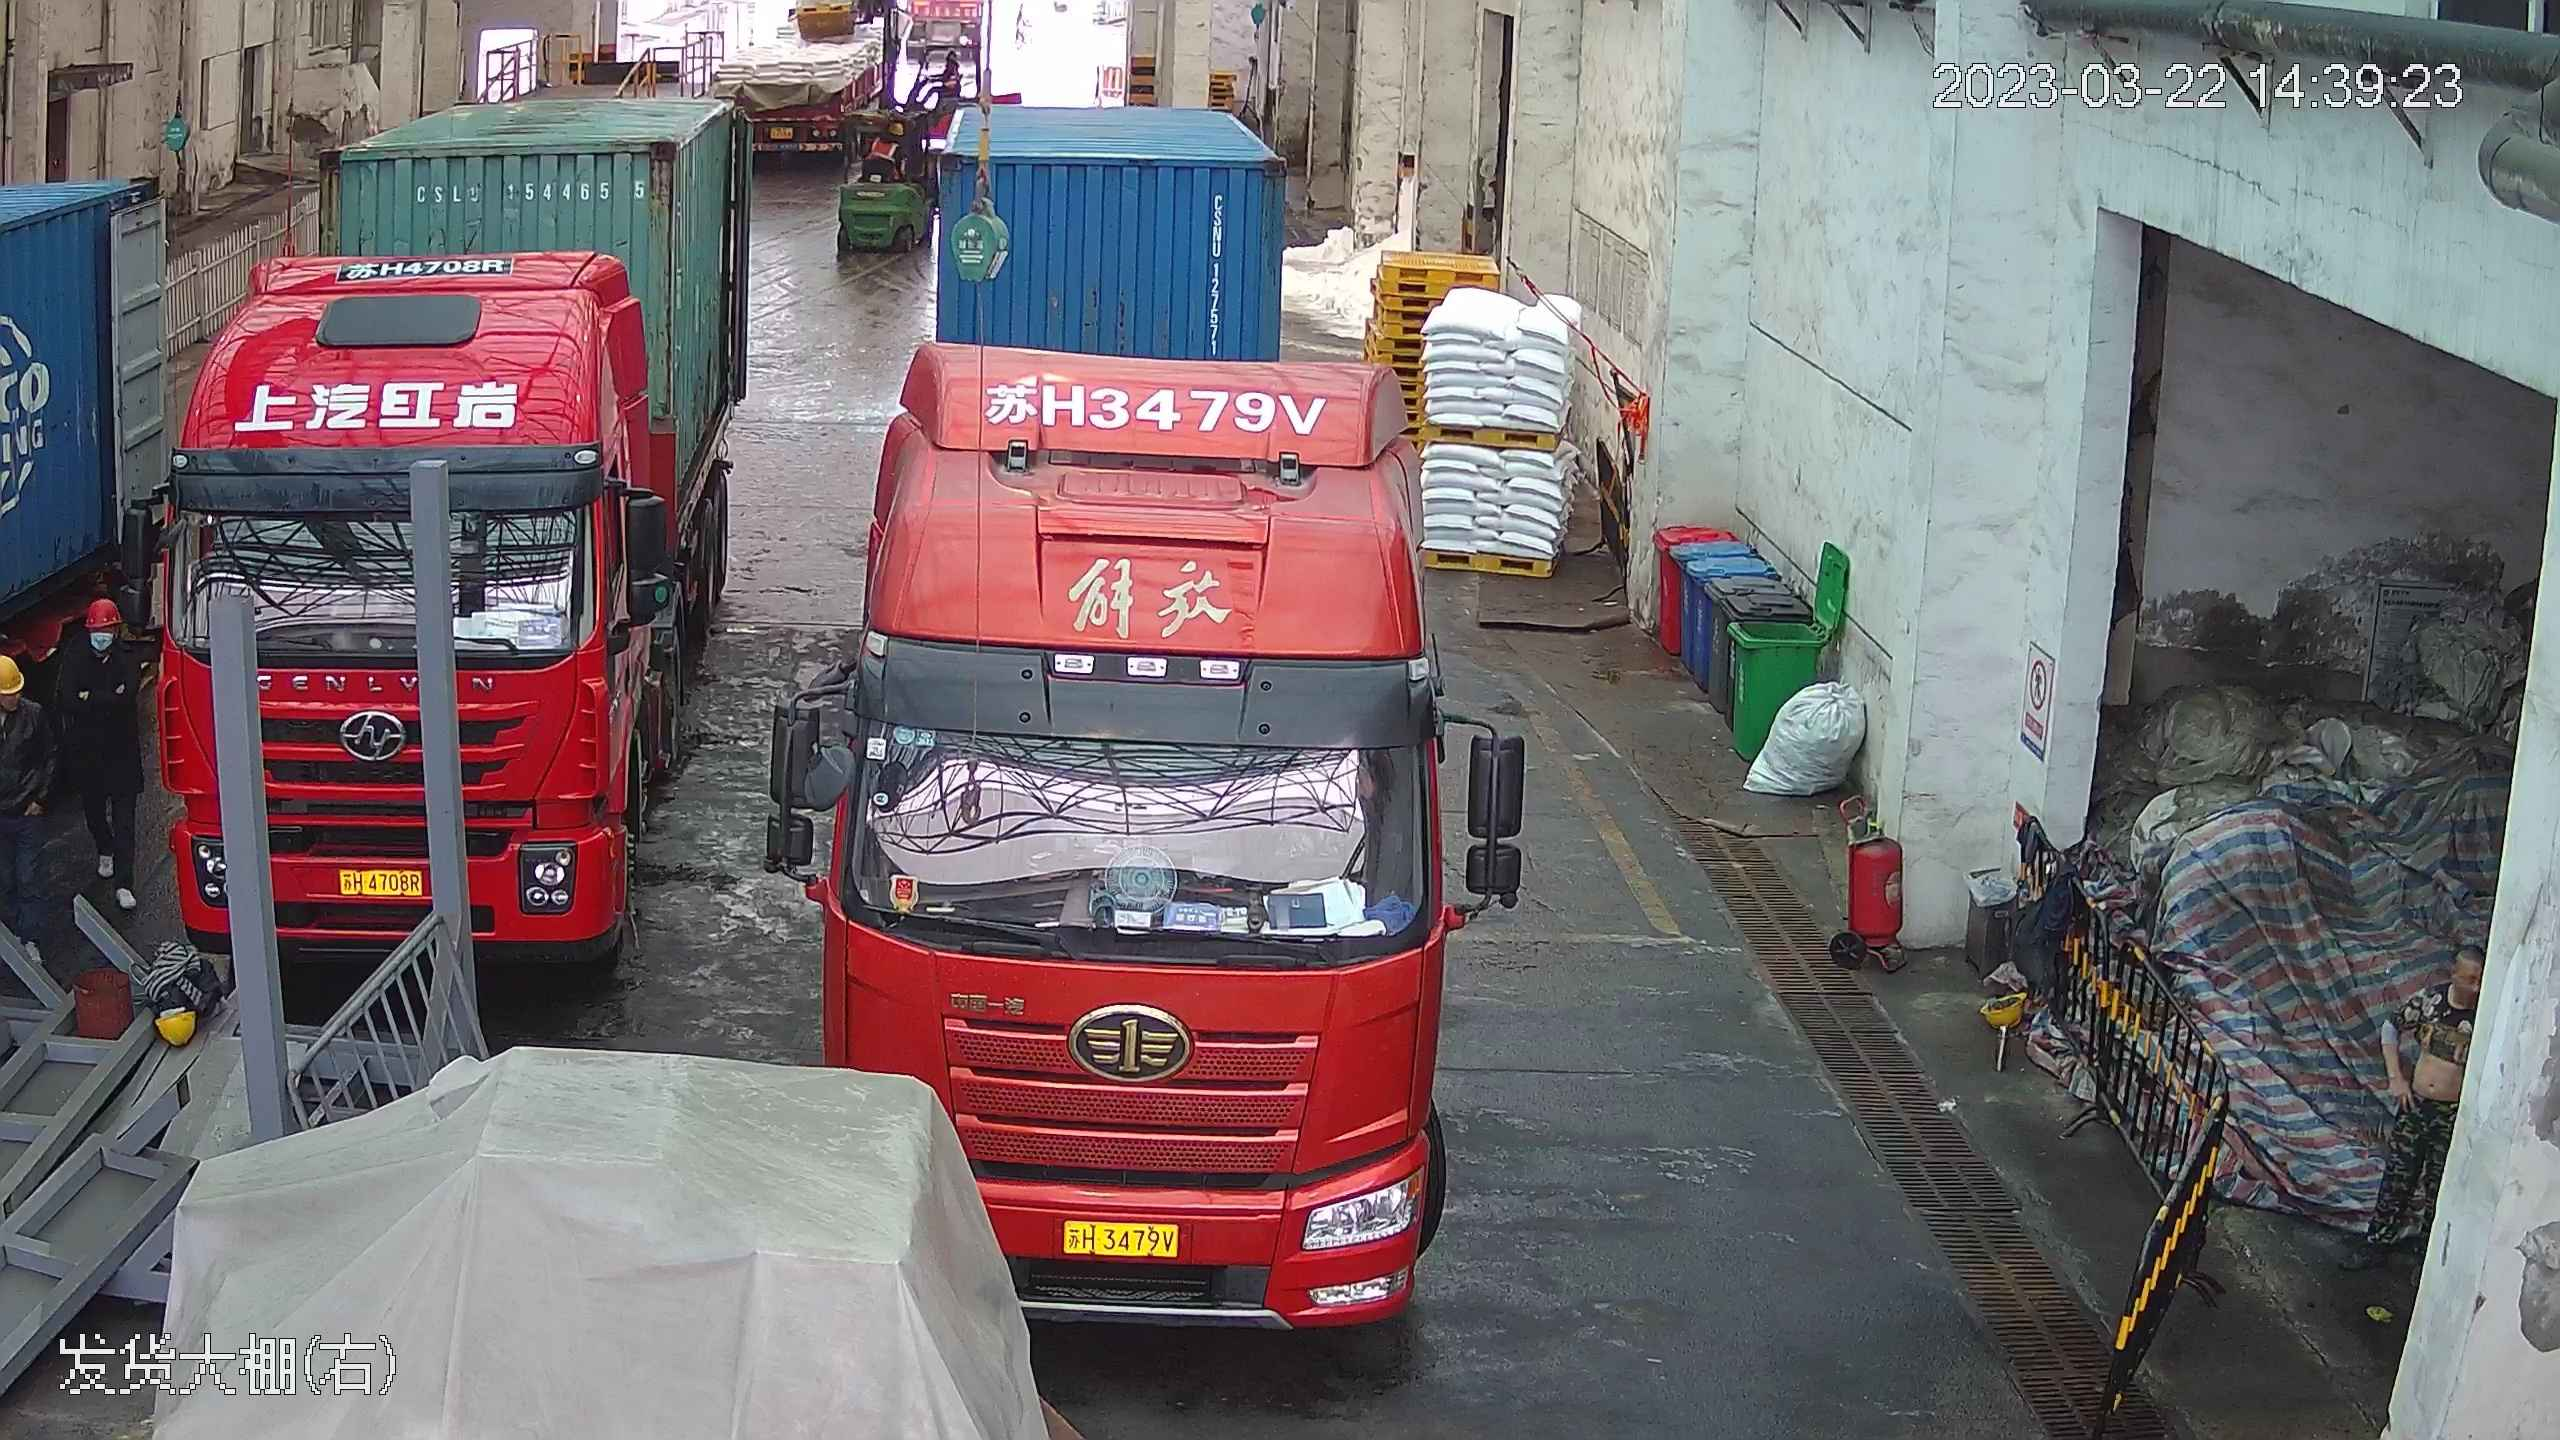head: (56, 595, 141, 694), (1, 651, 48, 761)
helmet: (80, 593, 123, 629), (1, 649, 30, 697), (885, 121, 904, 138)
people: (41, 595, 145, 896), (1, 647, 67, 960)
truck: (813, 47, 1473, 1313), (145, 39, 762, 963), (711, 4, 908, 172)
